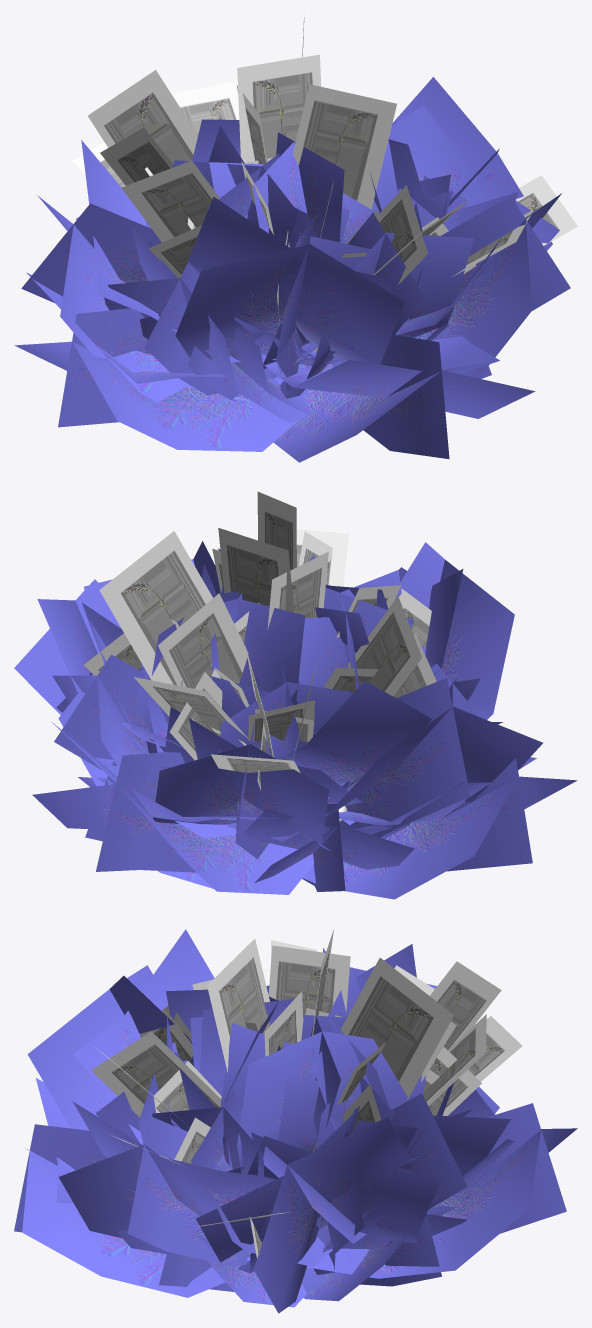
The model's file is Bush_Lavender01.fbx.
3 views of the same model, one above another, from view 1: azimuth 30°, elevation 25°; view 2: azimuth 150°, elevation 25°; view 3: azimuth 270°, elevation 25° (orthographic).
Visible parts, largest first — view 1: Bush29, Bush01, Bush03, Bush31, Bush02, Bush30, Bush14, Bush12, Bush16, Flower012, Flower019, Flower (+14 smaller); view 2: Bush31, Bush00, Bush03, Bush13, Bush29, Flower018, Bush28, Bush30, Bush07, Bush17, Flower020, Bush18 (+21 smaller); view 3: Bush02, Bush30, Bush00, Bush29, Bush01, Bush19, Flower018, Bush28, Bush15, Bush04, Bush23, Flower012 (+20 smaller).
Boxes of the visible parts, x1,y1,x2,y2 form: Bush29: (175,196,410,390); Bush01: (262,334,535,462); Bush03: (14,272,318,451); Bush31: (21,140,316,402); Bush02: (302,192,570,378); Bush30: (388,77,559,250); Bush14: (104,227,339,423); Bush12: (279,213,473,400); Bush16: (209,132,397,247); Flower012: (292,84,396,237); Flower019: (237,54,321,163); Flower: (88,70,197,176); Bush31: (227,678,542,841); Bush00: (32,721,345,894); Bush03: (303,757,577,899); Bush13: (153,707,363,865); Bush29: (342,542,514,825); Flower018: (99,531,212,685); Bush28: (52,620,236,838); Bush30: (14,579,165,747); Bush07: (244,804,414,891); Bush17: (137,593,330,777); Flower020: (158,593,249,707); Bush18: (298,570,413,788); Bush02: (58,1101,332,1267); Bush30: (196,1106,419,1313); Bush00: (307,1103,577,1278); Bush29: (27,929,214,1144); Bush01: (14,1078,247,1297); Bush19: (220,1017,407,1173); Flower018: (312,957,453,1152); Bush28: (317,1093,510,1252); Bush15: (238,1130,440,1274); Bush04: (301,1206,467,1301); Bush23: (152,1068,263,1176); Flower012: (207,939,269,1072).
Bounding box in the file's own units: 263 × 189 × 266.
